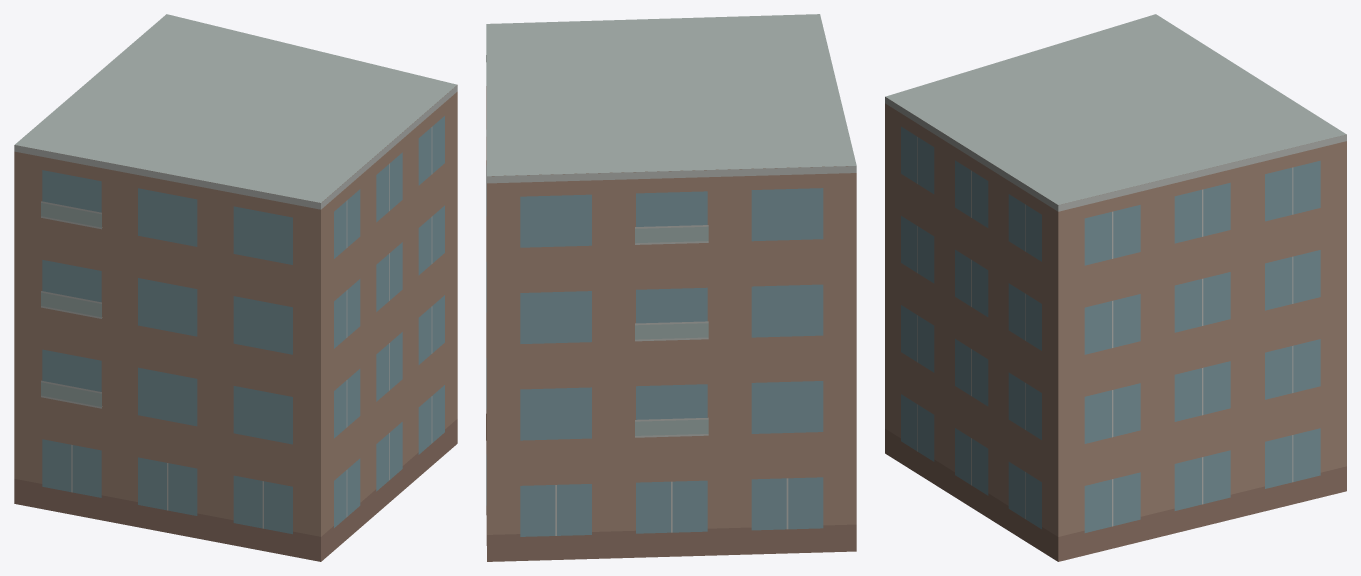
The model's file is survey-upis-32864622.glb.
The picture shows the model from 3 angles, left to right: view 1: azimuth 30°, elevation 25°; view 2: azimuth 150°, elevation 25°; view 3: azimuth 270°, elevation 25°; orthographic projection. The views are drawn at different scales.
Parts seen in each view (by area): view 1: survey-upis-32864622.tmp; view 2: survey-upis-32864622.tmp; view 3: survey-upis-32864622.tmp.
Part boxes in pixels (x1=…): survey-upis-32864622.tmp: x1=14, y1=14, x2=457, y2=561; survey-upis-32864622.tmp: x1=486, y1=14, x2=856, y2=561; survey-upis-32864622.tmp: x1=885, y1=14, x2=1346, y2=561.
Bounding box in the file's own units: 15.06 × 13.1 × 15.37.
